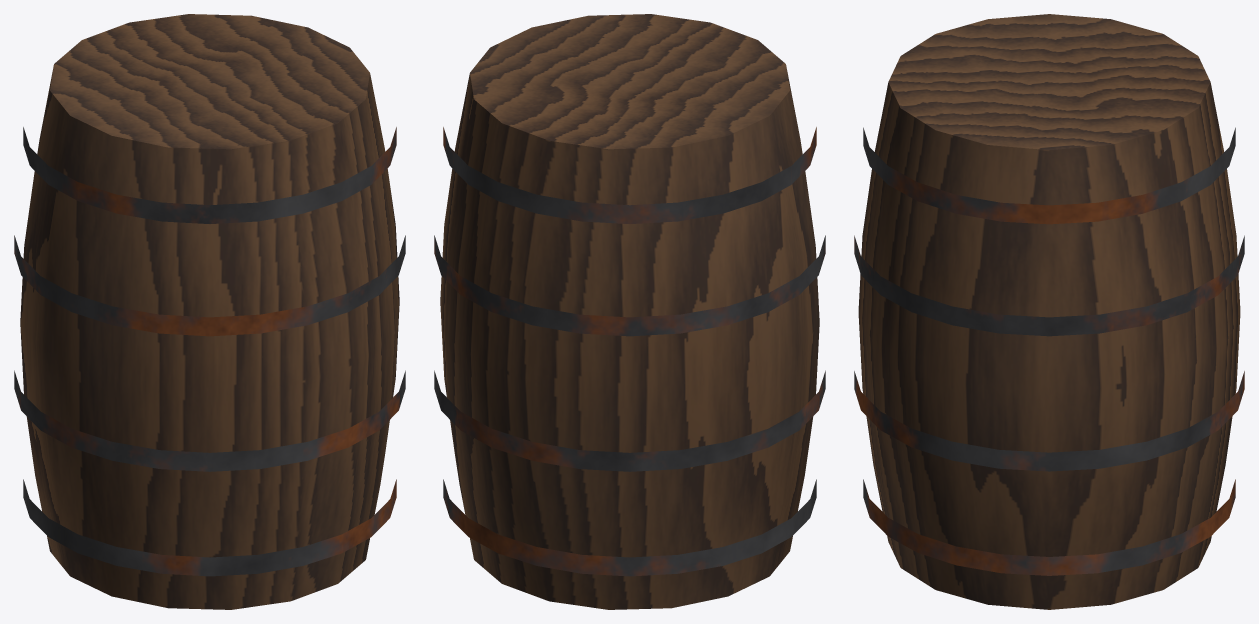
Rendered from SM_Barrel.glb.
3 renders of one model, left to right at view 1: azimuth 30°, elevation 25°; view 2: azimuth 150°, elevation 25°; view 3: azimuth 270°, elevation 25°, orthographic.
Parts seen in each view (by area): view 1: SM_Barrel; view 2: SM_Barrel; view 3: SM_Barrel.
Part boxes in pixels (x1,y1,x2,y2): SM_Barrel: (14, 14, 405, 609); SM_Barrel: (434, 14, 825, 609); SM_Barrel: (854, 14, 1244, 609).
Size of the model in its own units: 0.654 by 0.85 by 0.654.
1 material, 1 textured.
